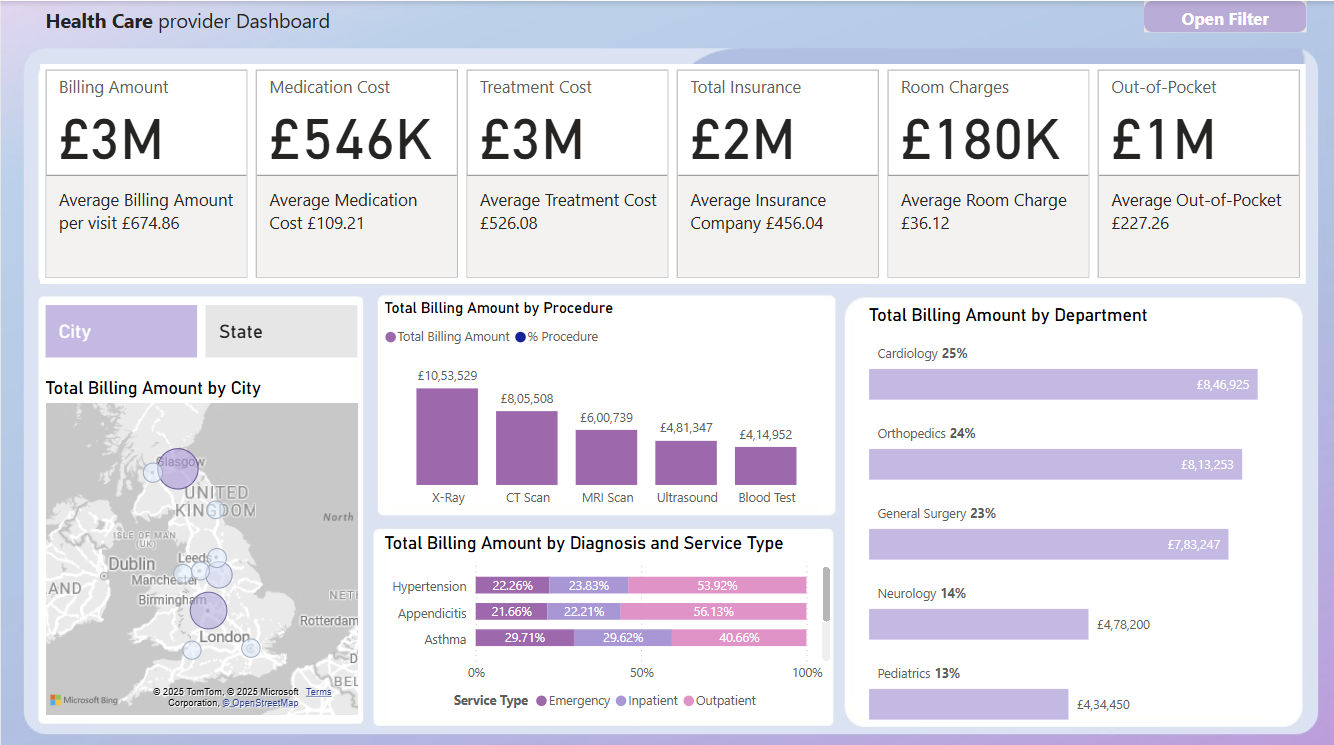

Layout of this report page (visuals, bound fields, positions):
{"tool":"powerbi","page":{"name":"Detail","canvas":[1280,720],"ordinal":1},"visuals":[{"type":"cardVisual","fields":{"Data":["Dax Calculation.Total Billing Amount","Dax Calculation.Total Medication Cost","Dax Calculation.Total Treatment Cost","Dax Calculation.Total Insurance Coverage","Dax Calculation.Total Room Charges","Dax Calculation.Out of Pocket"]},"box":[36.6,60.4,1208.9,210],"z":0},{"type":"actionButton","title":"Open  ","box":[1090.2,14.3,155.1,29.7],"z":1000,"group":"g1"},{"type":"map","fields":{"Category":["cities.State"],"Size":["Dax Calculation.Total Billing Amount"]},"box":[36.6,359.5,308.6,327.7],"z":1000},{"type":"advancedSlicerVisual","fields":{"Values":["Patients Location Switch .Patients Location Switch "]},"box":[36.6,284.7,308.6,60.4],"z":2000},{"type":"columnChart","title":"Total Billing Amount by Procedure","fields":{"Category":["procedures.Procedure"],"Y":["Dax Calculation.Total Billing Amount","Dax Calculation.All Billing Amount"]},"box":[361,289.3,435.4,206.3],"z":3000},{"type":"hundredPercentStackedBarChart","fields":{"Y":["Dax Calculation.Total Billing Amount"],"Category":["diagnoses.Diagnosis"],"Series":["visits.Service Type"]},"box":[361.1,507.4,435.8,179.7],"z":4000},{"type":"textbox","box":[36.6,0,811.2,60.4],"z":5000},{"type":"clusteredBarChart","title":" Total Billing Amount  by Department","fields":{"Category":["departments.Department"],"Y":["Dax Calculation.Blank Measure","Dax Calculation.Total Billing Amount"]},"box":[823.9,289.5,408.8,404],"z":6000},{"type":"group","id":"g1","title":"Button","box":[1088.6,14.3,156.1,30.1],"z":8000}]}

Visuals, with their boxes in screenshot pixels (x1, y1, x2, y2), scaled from the page's 1280x720 canvas onto the 1334x745 screenshot:
cardVisual - Dax Calculation.Total Billing Amount x Dax Calculation.Total Medication Cost: rect(38, 62, 1298, 280)
"Open  " actionButton: rect(1136, 15, 1298, 46)
map - cities.State x Dax Calculation.Total Billing Amount: rect(38, 372, 360, 711)
advancedSlicerVisual - Patients Location Switch .Patients Location Switch : rect(38, 295, 360, 357)
"Total Billing Amount by Procedure" columnChart: rect(376, 299, 830, 513)
hundredPercentStackedBarChart - Dax Calculation.Total Billing Amount x diagnoses.Diagnosis: rect(376, 525, 831, 711)
textbox: rect(38, 0, 884, 62)
" Total Billing Amount  by Department" clusteredBarChart: rect(859, 300, 1285, 718)
"Button" group: rect(1135, 15, 1297, 46)
